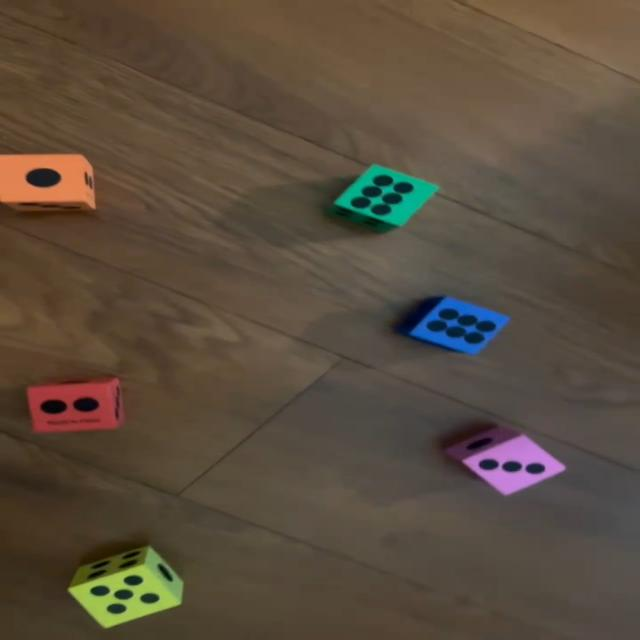blue_block: (407, 294, 511, 358)
red_block: (27, 378, 126, 434)
